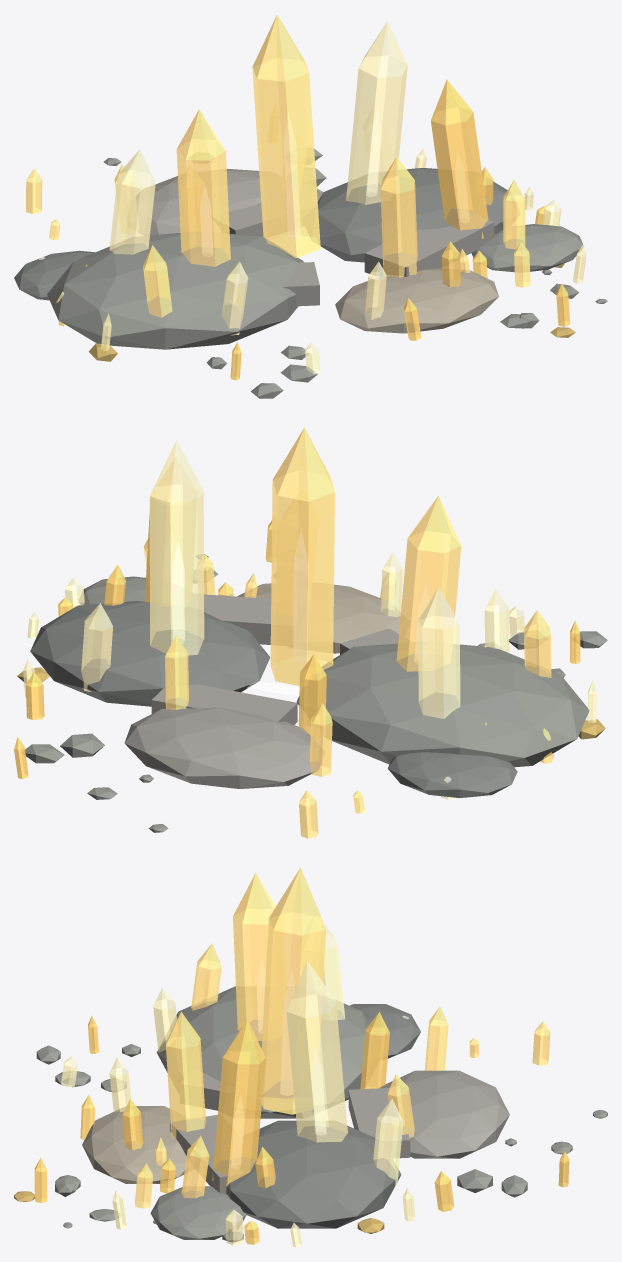
The model's file is worldforge_mineral_rich_crystal_cluster_v0.3_flatfacets.glb.
3 views of the same model, one above another, from view 1: azimuth 30°, elevation 25°; view 2: azimuth 150°, elevation 25°; view 3: azimuth 270°, elevation 25° (orthographic). The views are drawn at different scales.
Visible parts, largest first — view 1: host_0, hero_0, host_3, hero_1, host_1, hero_2, hero_3, hero_5, rock_slab_1, hero_4, host_2, host_5 (+17 smaller); view 2: host_0, host_1, hero_0, host_2, hero_1, hero_2, hero_4, hero_3, host_4, host_3, rock_slab_2, rock_slab_1 (+17 smaller); view 3: host_1, hero_0, hero_1, host_0, host_2, hero_3, host_3, hero_2, hero_5, host_5, rock_slab_2, rock_slab_1 (+22 smaller).
Boxes of the visible parts, bbox=[...] form: host_0: bbox=[47, 233, 303, 349]; hero_0: bbox=[252, 14, 320, 257]; host_3: bbox=[335, 268, 498, 333]; hero_1: bbox=[346, 21, 407, 204]; host_1: bbox=[317, 168, 507, 262]; hero_2: bbox=[176, 109, 230, 266]; hero_3: bbox=[431, 79, 488, 238]; hero_5: bbox=[380, 157, 417, 277]; rock_slab_1: bbox=[364, 215, 494, 276]; hero_4: bbox=[109, 149, 155, 254]; host_2: bbox=[136, 168, 261, 235]; host_5: bbox=[471, 224, 583, 272]; host_0: bbox=[296, 643, 589, 767]; host_1: bbox=[30, 601, 270, 706]; hero_0: bbox=[270, 427, 334, 685]; host_2: bbox=[124, 707, 320, 788]; hero_1: bbox=[149, 440, 204, 655]; hero_2: bbox=[396, 495, 461, 671]; hero_4: bbox=[418, 587, 460, 718]; hero_3: bbox=[144, 457, 196, 602]; host_4: bbox=[387, 752, 517, 797]; host_3: bbox=[237, 583, 400, 653]; rock_slab_2: bbox=[151, 684, 297, 724]; rock_slab_1: bbox=[188, 594, 271, 644]; host_1: bbox=[226, 1120, 401, 1228]; hero_0: bbox=[261, 868, 326, 1114]; hero_1: bbox=[286, 960, 347, 1142]; host_0: bbox=[156, 986, 369, 1118]; host_2: bbox=[379, 1070, 509, 1158]; hero_3: bbox=[212, 1019, 265, 1186]; host_3: bbox=[82, 1106, 186, 1183]; hero_2: bbox=[233, 873, 275, 1040]; hero_5: bbox=[166, 1012, 205, 1138]; host_5: bbox=[150, 1186, 246, 1239]; rock_slab_2: bbox=[348, 1088, 410, 1158]; rock_slab_1: bbox=[170, 1114, 242, 1193].
Bounding box in the file's own units: 5.87 × 3.15 × 6.16.
